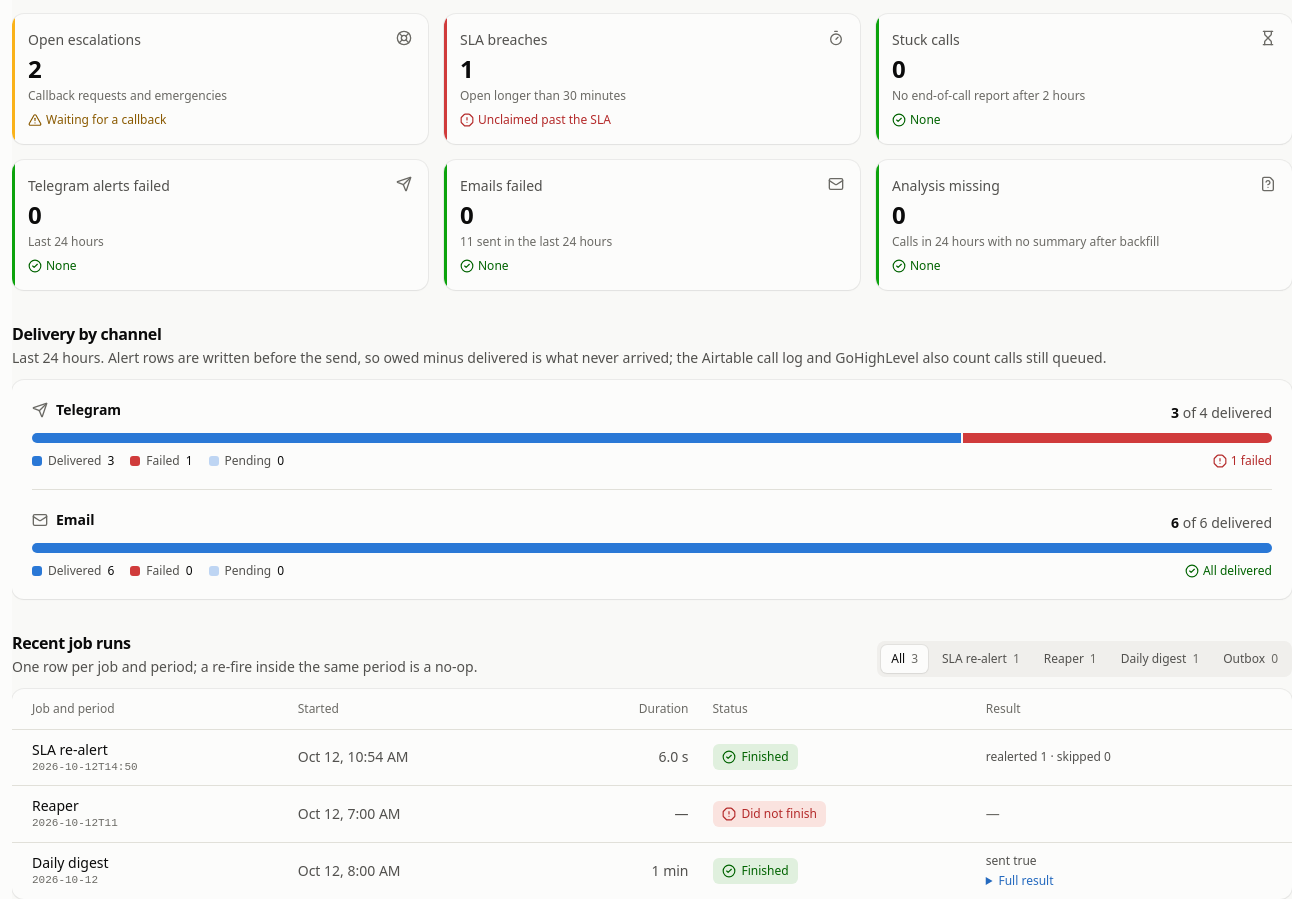
Test: Ops › lists recent job runs with status and result, filterable by job
(page scrolled)
Expected: the number of rows is 4, [12,689,1291,729]; [12,730,1291,786]; [12,786,1291,842]; [12,842,1291,898]
Expected: the text "realerted 1 · skipped 0" is shown, [986,748,1111,765]
Click the button "Reaper 1": (1070, 659) [1034,645,1107,673]
(page scrolled)
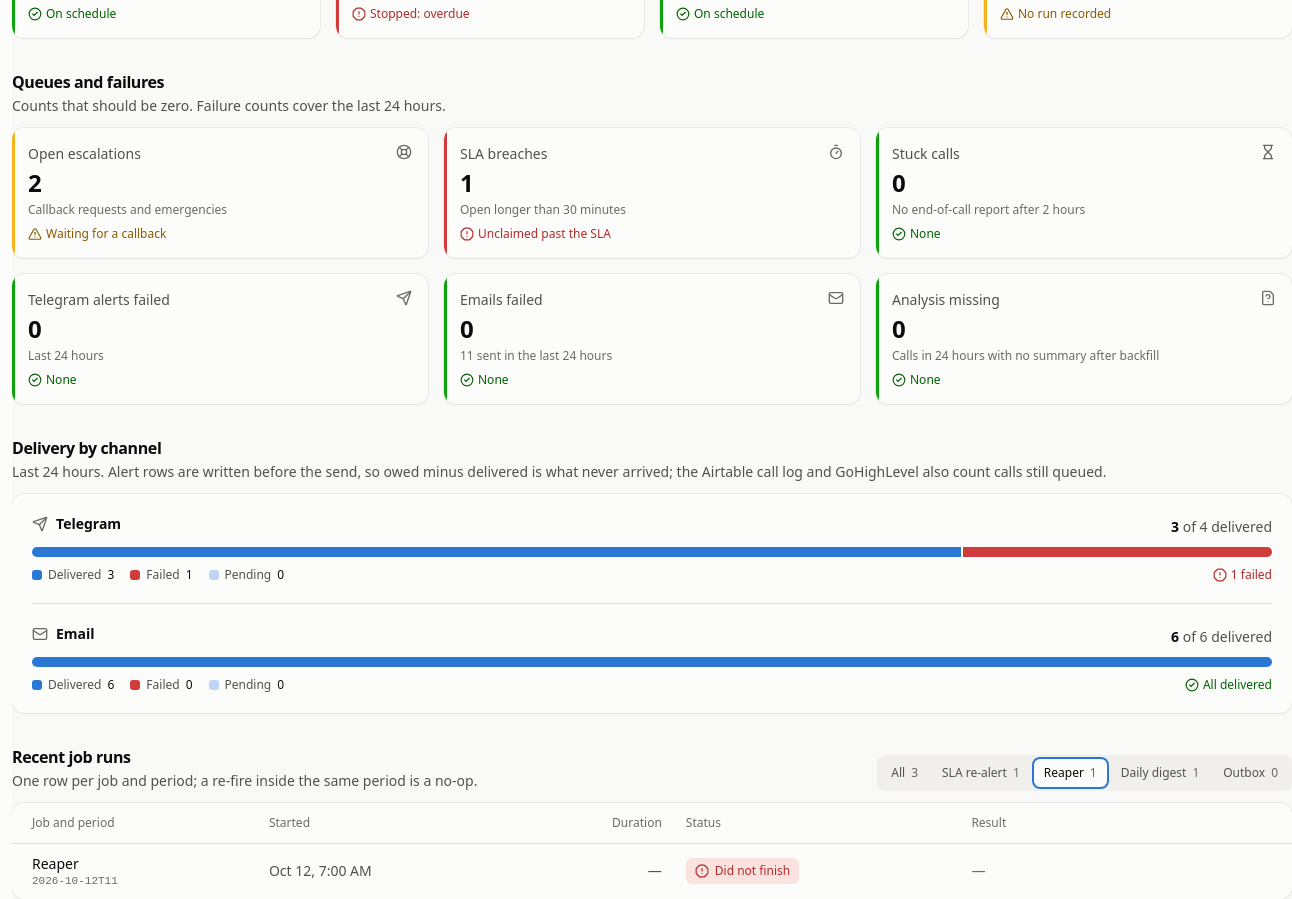
Expected: the number of rows is 2, [12,803,1291,843]; [12,844,1291,898]
